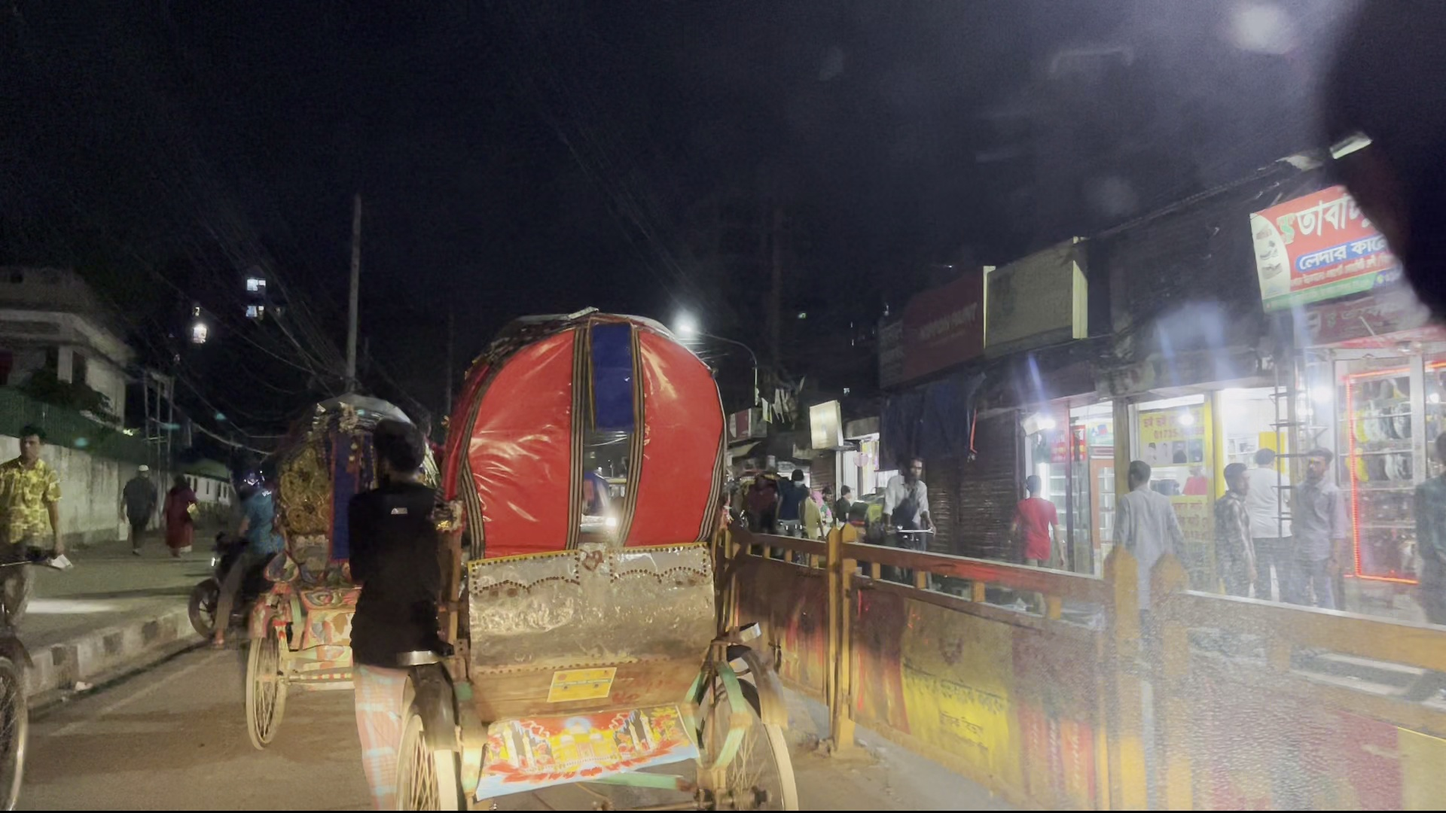motorcycle: (192, 528, 302, 633)
person: (350, 397, 470, 761), (1097, 455, 1189, 619), (994, 467, 1078, 614), (3, 424, 60, 632), (1295, 451, 1359, 626), (1209, 455, 1265, 619), (223, 458, 288, 586), (879, 456, 935, 561), (120, 457, 157, 565), (166, 467, 203, 571), (742, 467, 789, 547), (772, 468, 817, 547)
